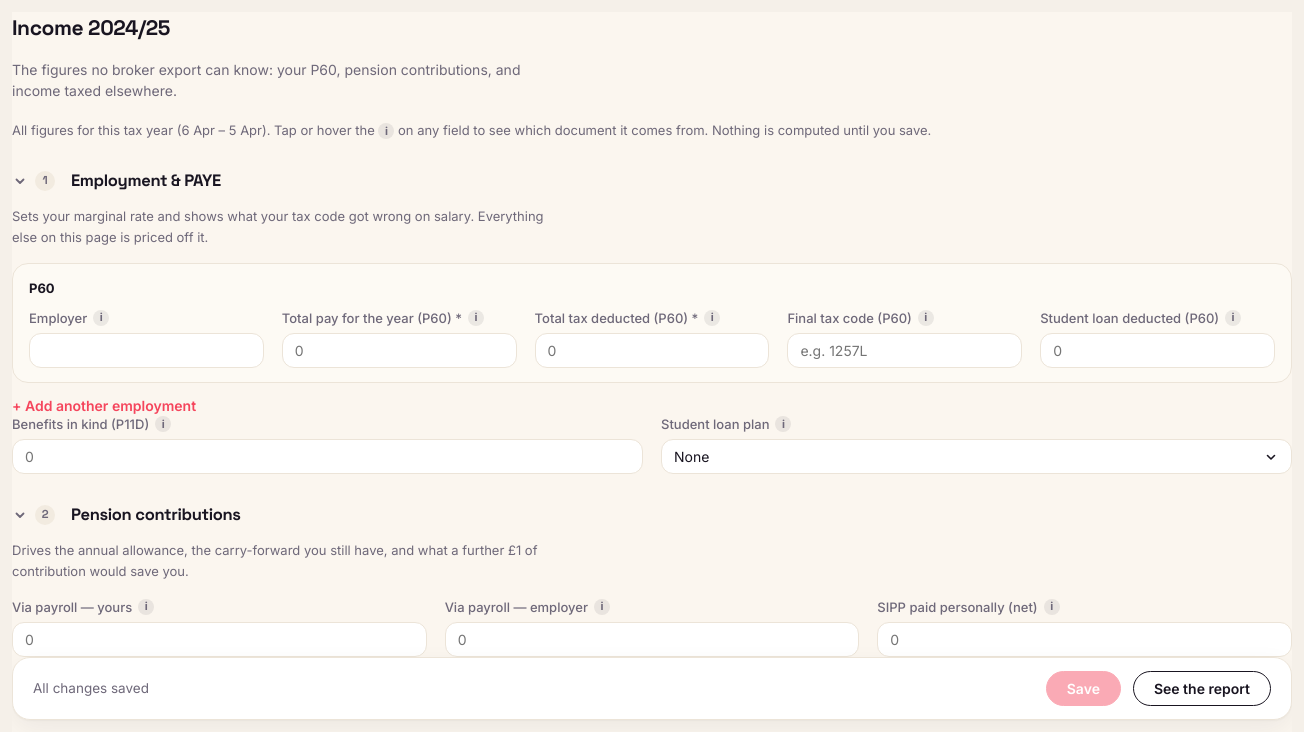
Test: an unsaved edit says so, because nothing is recomputed until it is saved
Expected: the button "1 Employment & PAYE" is shown, x1=12 y1=168 x2=221 y2=194
Expected: the text "All changes saved" is shown, x1=33 y1=678 x2=149 y2=699
Step 1. Type "1257L" into the field with placeholder "e.g. 1257L" → (905, 350), box x1=787 y1=333 x2=1022 y2=368
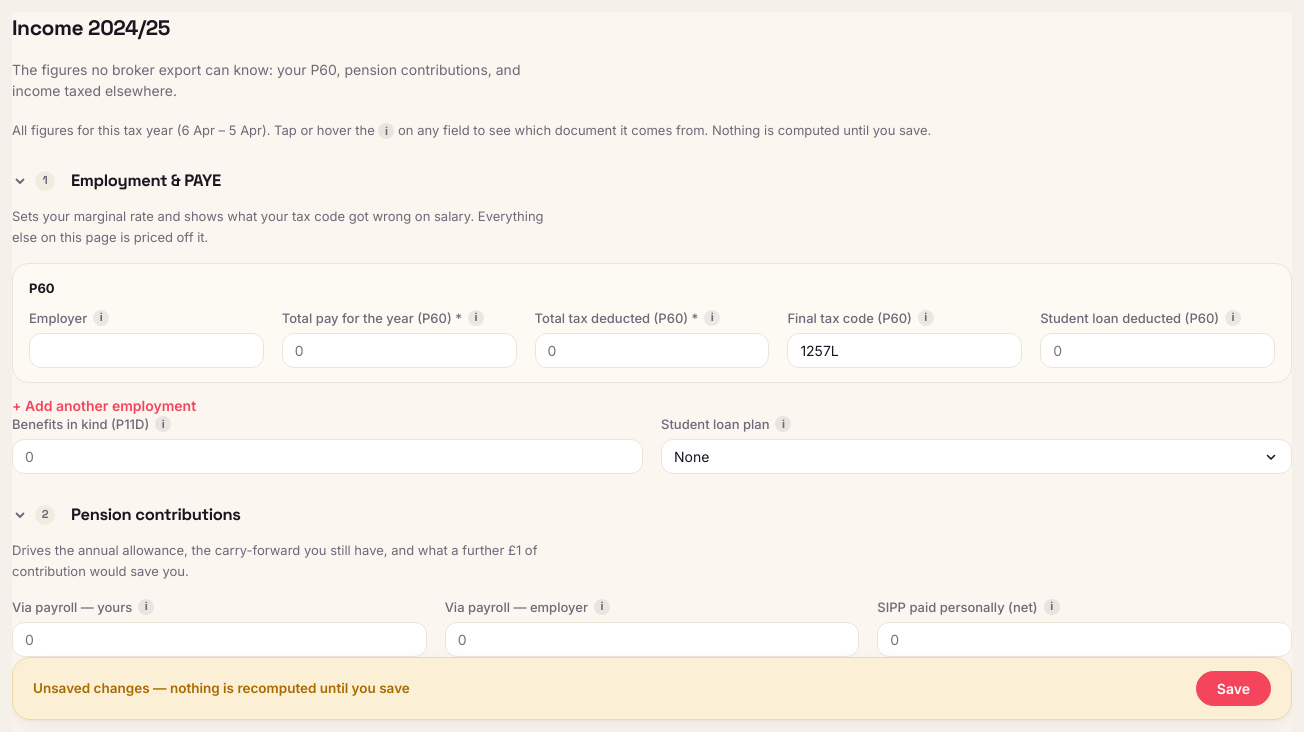
Now the text "Unsaved changes — nothing is recomputed until you save" is shown, box x1=33 y1=678 x2=410 y2=699
Step 2. Click the button "Save" → (1233, 688), box x1=1196 y1=671 x2=1271 y2=706
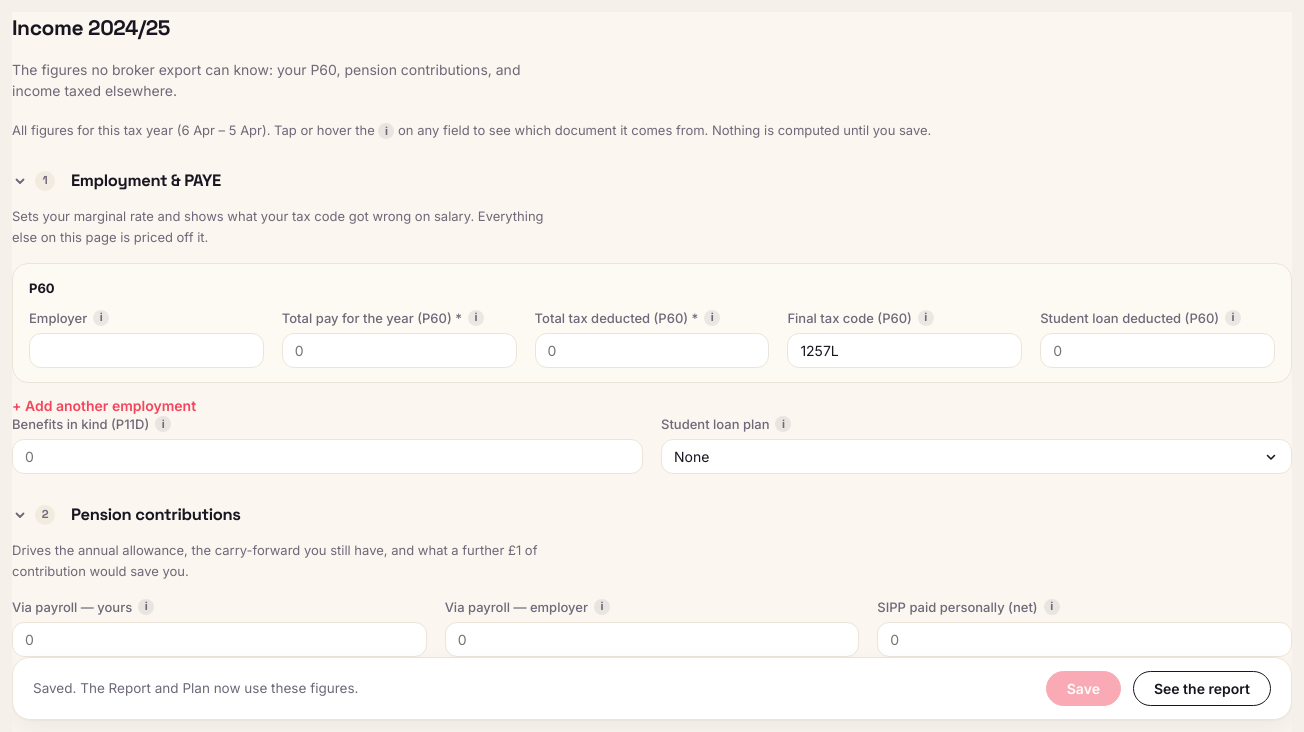
Now the text "Saved. The Report and Plan now use these figures." is shown, box x1=33 y1=678 x2=358 y2=699
